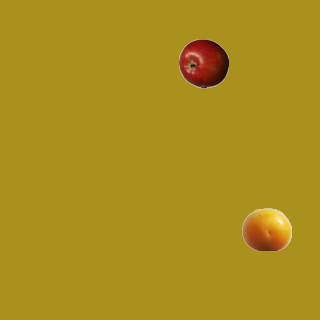Apple Braeburn: (178, 38, 228, 88)
Cherry Wax Yellow: (241, 204, 291, 254)
